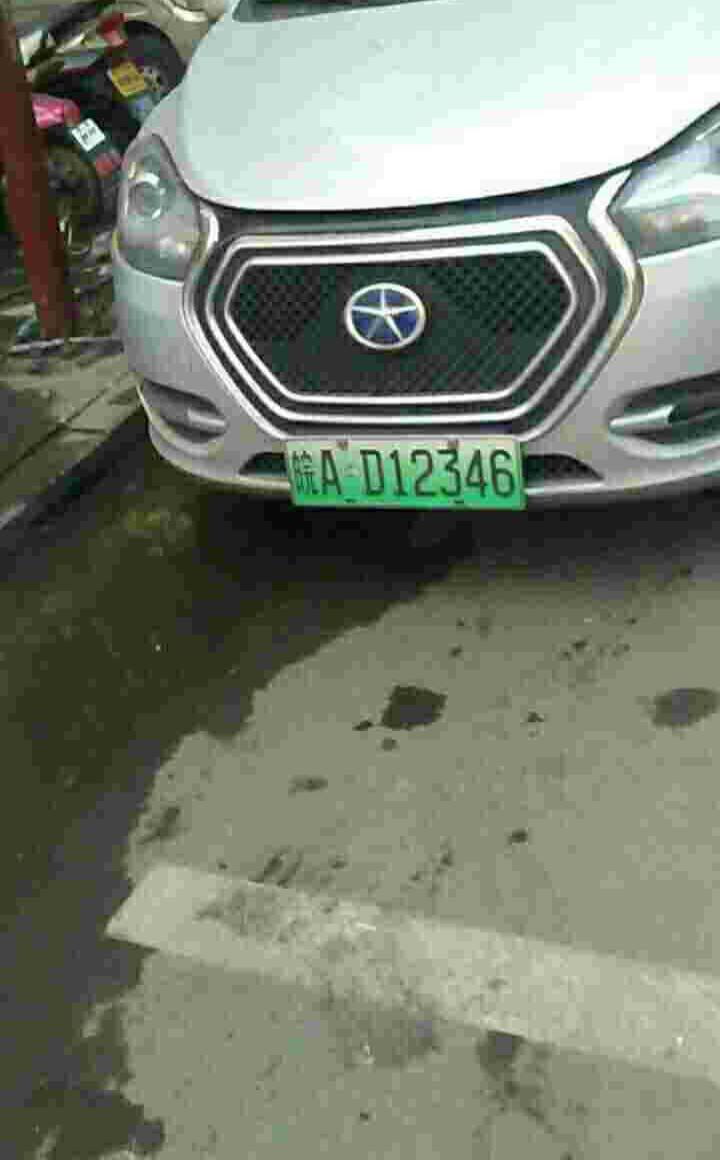car: (288, 439, 525, 511)
